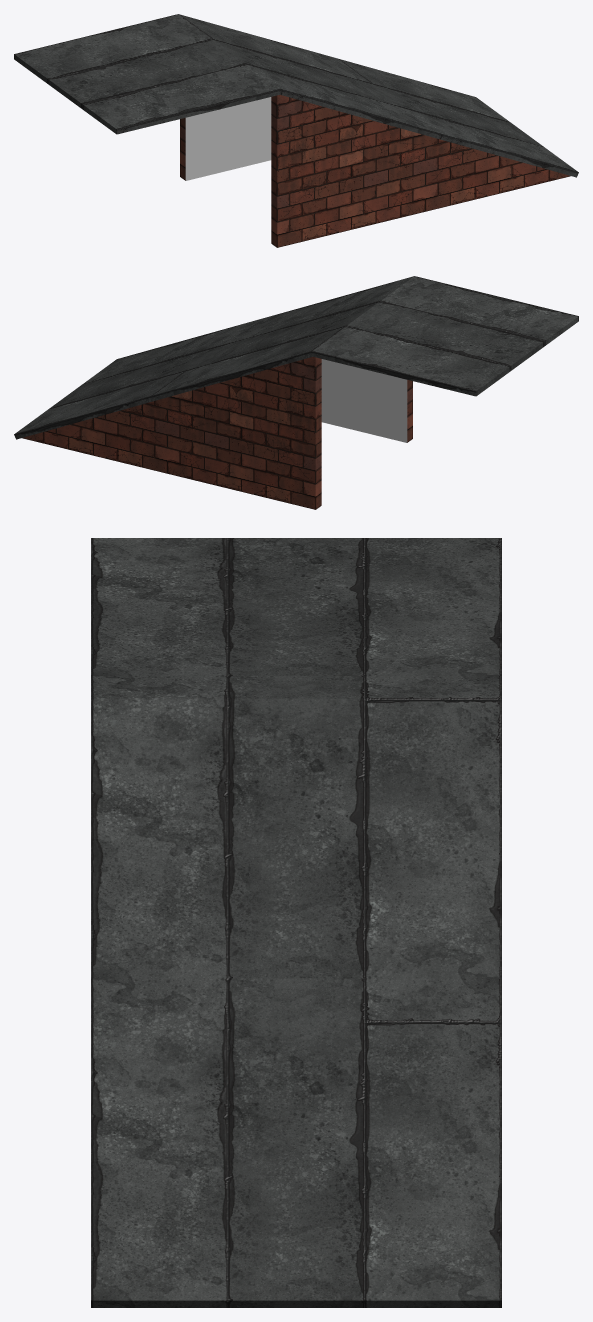
File: rooftopAccess02.FBX
3 renders of one model, top to bottom at view 1: azimuth 30°, elevation 25°; view 2: azimuth 150°, elevation 25°; view 3: azimuth 270°, elevation 25°, orthographic. The views are drawn at different scales.
Visible parts, largest first — view 1: rooftopAccess02_roof, rooftopAccess02; view 2: rooftopAccess02_roof, rooftopAccess02; view 3: rooftopAccess02_roof.
Part boxes in pixels (box(x1,y1,x2,y2)): rooftopAccess02_roof: box(14, 14, 578, 177); rooftopAccess02: box(180, 95, 570, 247); rooftopAccess02_roof: box(14, 276, 578, 439); rooftopAccess02: box(22, 357, 412, 509); rooftopAccess02_roof: box(91, 538, 501, 1307).
Size of the model in its own units: 934 by 310 by 360.
